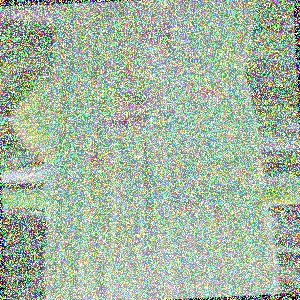Bacterial_Leaf_Blight: (133, 17, 190, 49), (106, 106, 154, 137), (118, 86, 161, 111), (108, 64, 140, 88), (85, 147, 112, 170), (194, 82, 221, 104), (178, 195, 199, 216), (211, 200, 226, 214)
